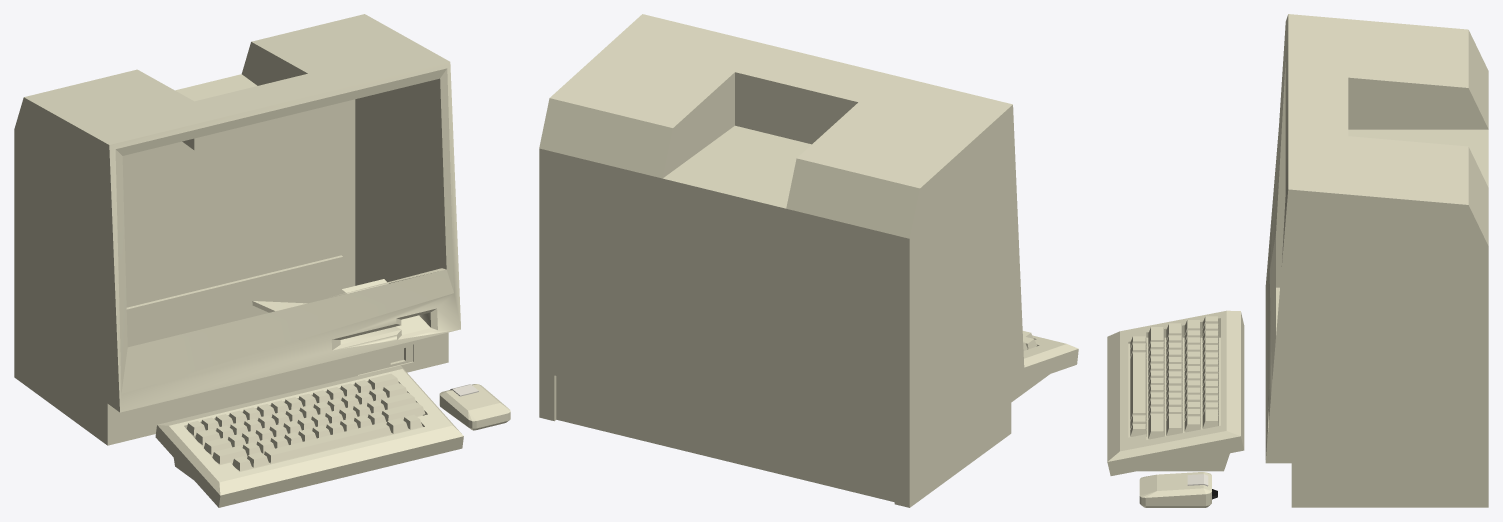
The model's file is mac_ex.glb.
3 renders of one model, left to right at view 1: azimuth 30°, elevation 25°; view 2: azimuth 150°, elevation 25°; view 3: azimuth 270°, elevation 25°, orthographic. The views are drawn at different scales.
Visible parts, largest first — view 1: macintosh, macintoshKeyboard, macintoshMouse; view 2: macintosh, macintoshKeyboard; view 3: macintosh, macintoshKeyboard, macintoshMouse.
Boxes of the visible parts, box(x1,y1,x2,y2) form: macintosh: box(14, 14, 460, 445); macintoshKeyboard: box(155, 365, 463, 507); macintoshMouse: box(439, 384, 510, 430); macintosh: box(539, 14, 1024, 507); macintoshKeyboard: box(1011, 331, 1078, 402); macintosh: box(1265, 14, 1488, 507); macintoshKeyboard: box(1107, 310, 1244, 475); macintoshMouse: box(1139, 472, 1217, 507).
Size of the model in its own units: 0.5154 by 0.4443 by 0.4735.
